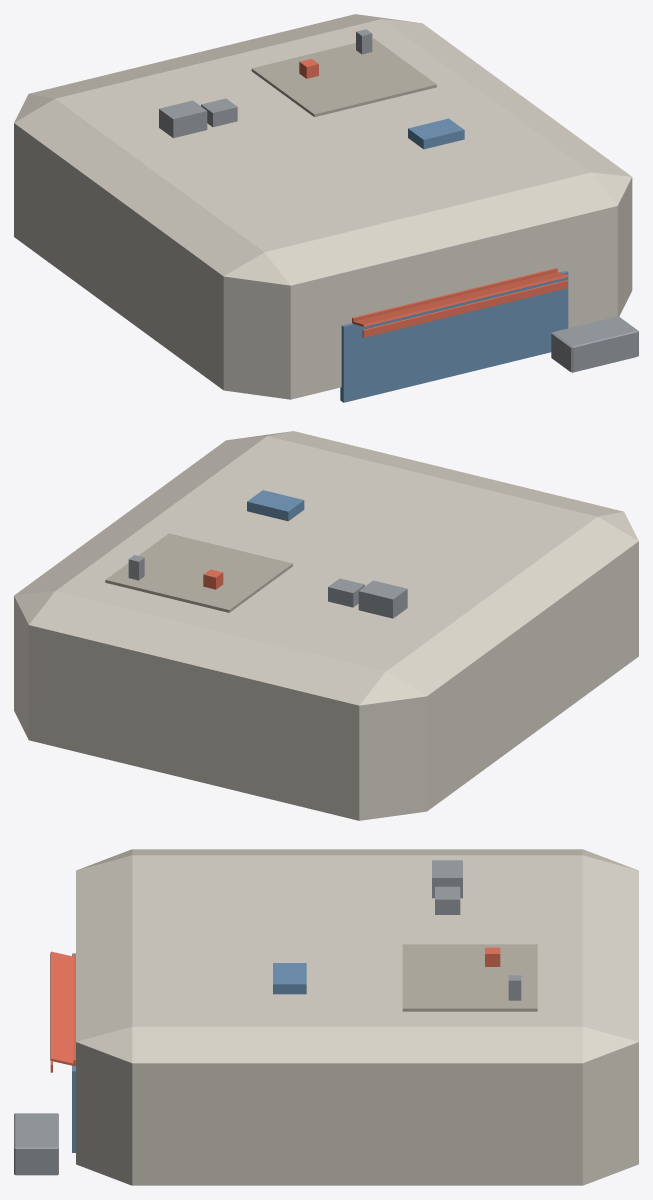
File: market_s.glb
3 renders of one model, top to bottom at view 1: azimuth 30°, elevation 25°; view 2: azimuth 150°, elevation 25°; view 3: azimuth 270°, elevation 25°, orthographic. The views are drawn at different scales.
Parts seen in each view (by area): view 1: walls, front, roofdeck, carts, valance, awn, hvac, skylt, awnbar, hvac2; view 2: walls, roofdeck, hvac, skylt, hvac2; view 3: walls, roofdeck, carts, awn, skylt, hvac, hvac2.
Boxes of the visible parts, x1,y1,x2,y2 form: walls: [14, 14, 632, 399]; front: [340, 270, 568, 402]; roofdeck: [251, 38, 436, 117]; carts: [551, 316, 638, 372]; valance: [362, 280, 567, 337]; awn: [353, 272, 567, 326]; hvac: [159, 100, 207, 138]; skylt: [408, 118, 464, 149]; awnbar: [352, 268, 557, 323]; hvac2: [201, 98, 237, 127]; walls: [14, 431, 638, 820]; roofdeck: [105, 533, 292, 612]; hvac: [358, 580, 407, 618]; skylt: [247, 490, 304, 521]; hvac2: [328, 578, 364, 607]; walls: [76, 849, 638, 1185]; roofdeck: [402, 944, 537, 1011]; carts: [14, 1113, 58, 1175]; awn: [50, 951, 75, 1065]; skylt: [273, 963, 306, 994]; hvac: [432, 860, 462, 898]; hvac2: [435, 886, 460, 914].
Bounding box in the file's own units: 18 × 6.9 × 22.2.
